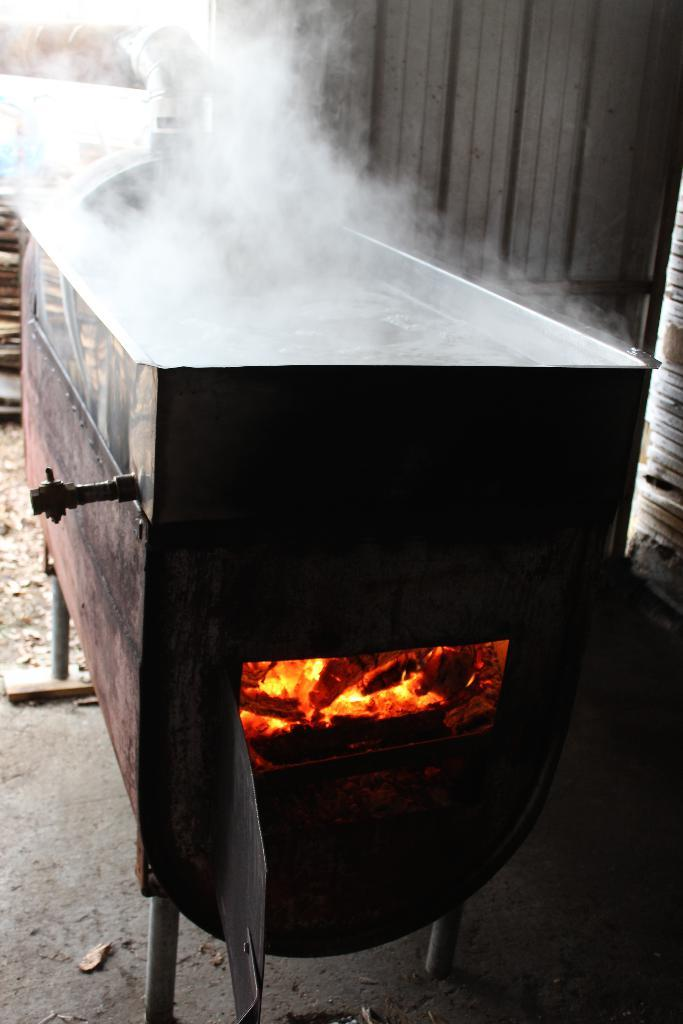fire: (238, 638, 512, 743)
smoke: (6, 15, 608, 360)
